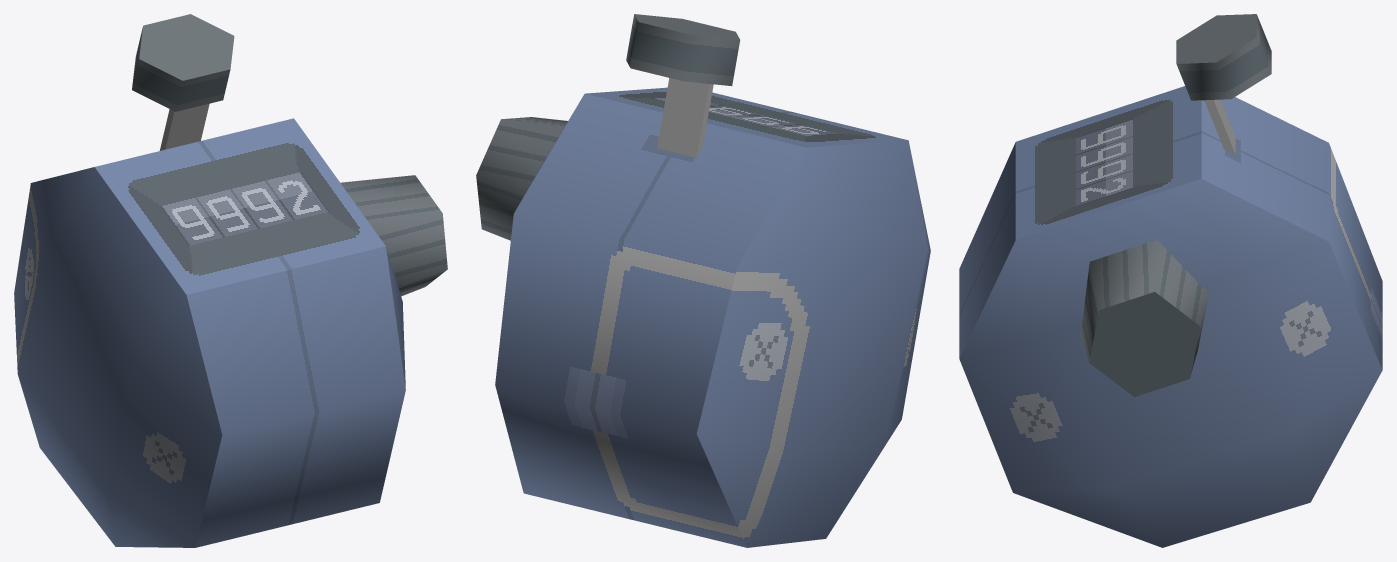
Rendered from 00c2_Number_Counter.glb.
The picture shows the model from 3 angles, left to right: view 1: azimuth 30°, elevation 25°; view 2: azimuth 150°, elevation 25°; view 3: azimuth 270°, elevation 25°; orthographic projection. The views are drawn at different scales.
Visible parts, largest first — view 1: part_0; view 2: part_0; view 3: part_0.
Part boxes in pixels (x1,y1,x2,y2): part_0: (14, 14, 447, 547); part_0: (476, 14, 930, 547); part_0: (959, 14, 1382, 547).
Bounding box in the file's own units: 0.0447 × 0.0603 × 0.0488.
1 material, 1 textured.
